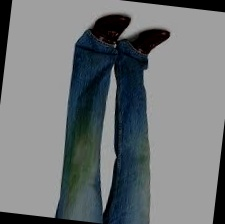earth: (65, 132, 94, 186)
